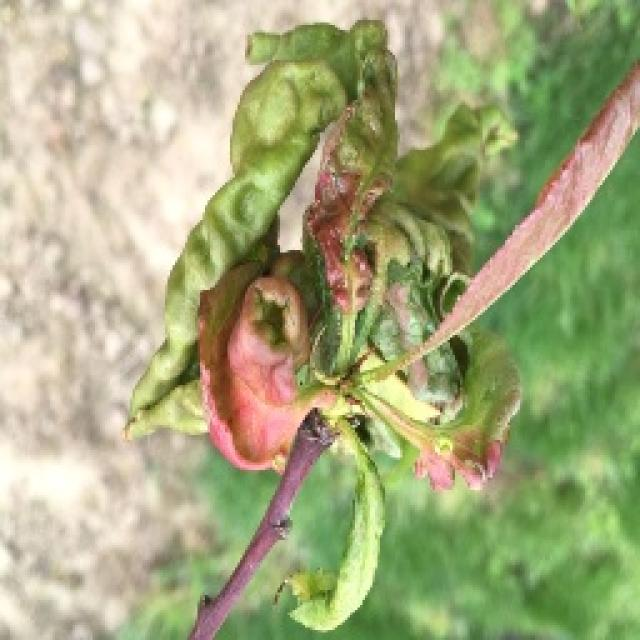peach_leaf_curl: (175, 15, 462, 449)
